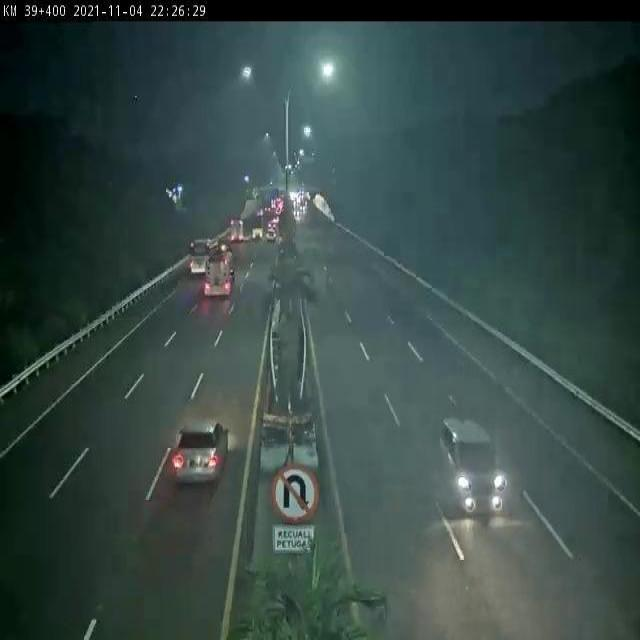ARABA: (434, 401, 518, 536), (170, 412, 234, 493)
OTOBUS: (182, 231, 209, 284)
TIR: (204, 243, 250, 309)
